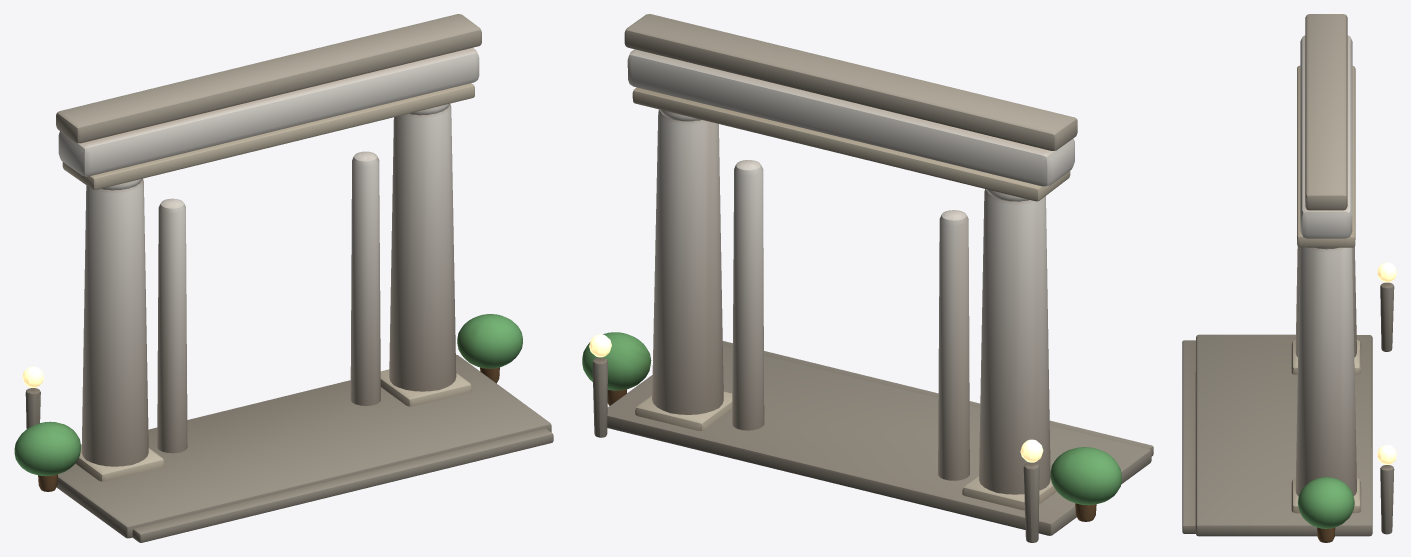
3 renders of one model, left to right at view 1: azimuth 30°, elevation 25°; view 2: azimuth 150°, elevation 25°; view 3: azimuth 270°, elevation 25°, orthographic. The views are drawn at different scales.
Visible parts, largest first — view 1: gate_8affac31; view 2: gate_8affac31; view 3: gate_8affac31.
Boxes of the visible parts, x1,y1,x2,y2 form: gate_8affac31: (14,14,553,542); gate_8affac31: (582,14,1153,542); gate_8affac31: (1182,14,1396,542).
Size of the model in its own units: 6.33 by 4.43 by 2.55.
